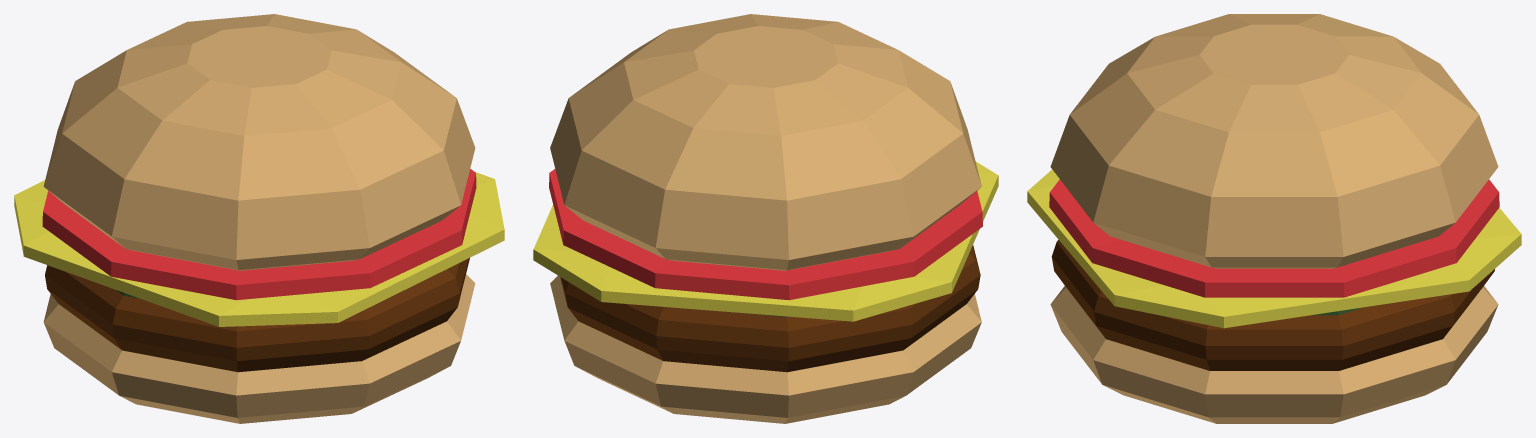
The model's file is Burger.glb.
3 renders of one model, left to right at view 1: azimuth 30°, elevation 25°; view 2: azimuth 150°, elevation 25°; view 3: azimuth 270°, elevation 25°, orthographic.
Visible parts, largest first — view 1: Burger; view 2: Burger; view 3: Burger.
Boxes of the visible parts, left/top/right/bottom form: Burger: left=14, top=14, right=504, bottom=423; Burger: left=533, top=14, right=998, bottom=423; Burger: left=1027, top=14, right=1521, bottom=423.
Bounding box in the file's own units: 0.6648 × 0.4583 × 0.6648.
Materials: 1 (1 with a texture image).
